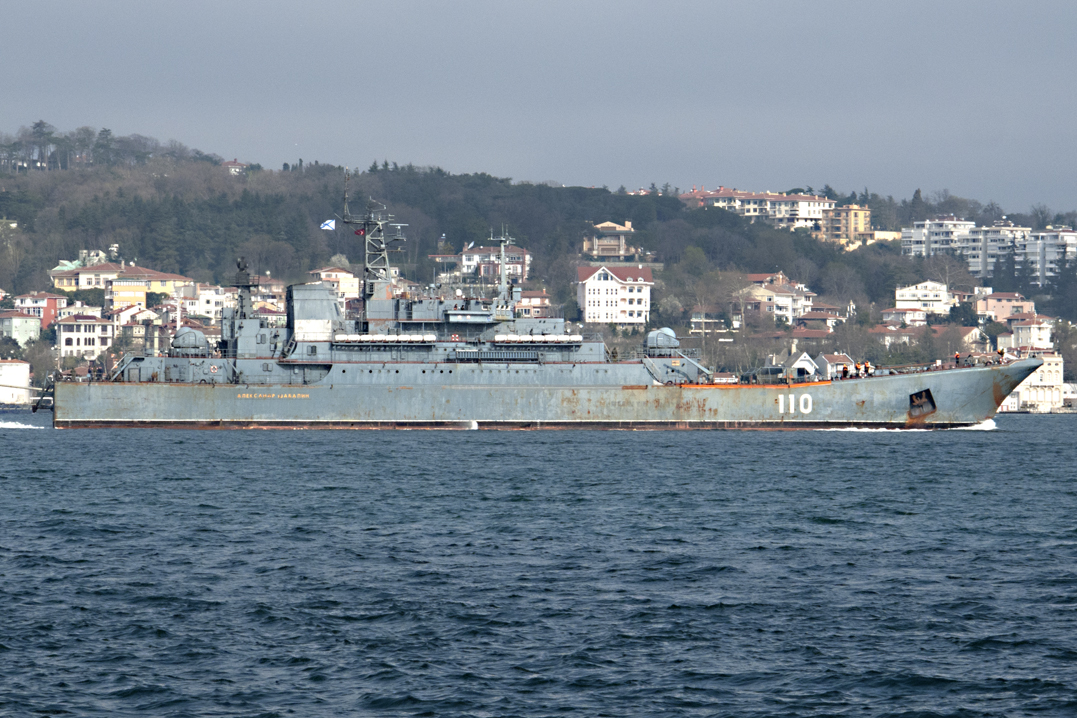rust: (650, 393, 711, 414), (907, 396, 929, 424), (991, 381, 1004, 403)
